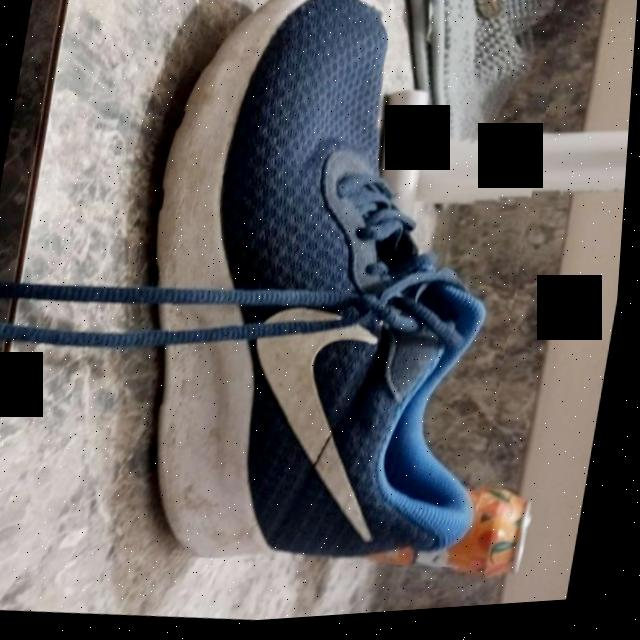shoe: (103, 0, 568, 594)
